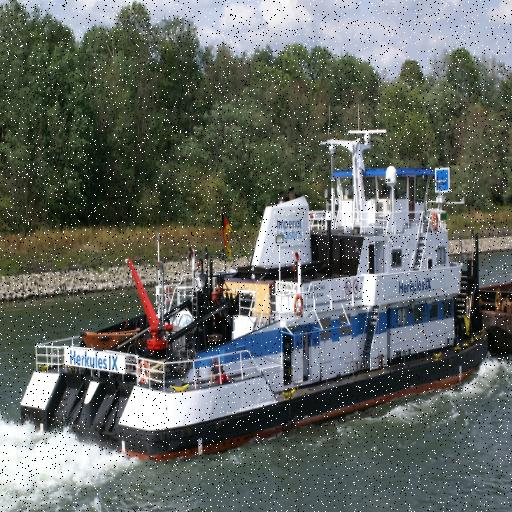tugboat: (12, 101, 499, 470)
